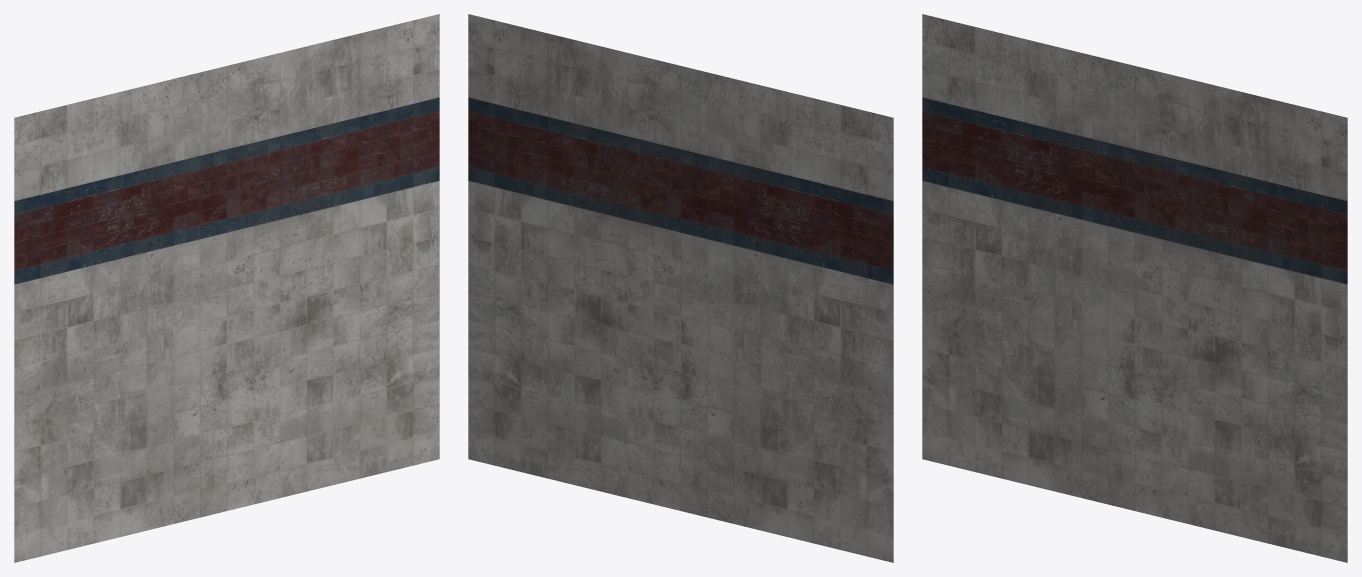
Rendered from SM_Wall_Plain_200u.glb.
3 renders of one model, left to right at view 1: azimuth 30°, elevation 25°; view 2: azimuth 150°, elevation 25°; view 3: azimuth 330°, elevation 25°, orthographic.
Visible parts, largest first — view 1: SM_Wall_Plain_200u; view 2: SM_Wall_Plain_200u; view 3: SM_Wall_Plain_200u.
Boxes of the visible parts, left/top/right/bottom form: SM_Wall_Plain_200u: left=14, top=14, right=439, bottom=562; SM_Wall_Plain_200u: left=468, top=14, right=893, bottom=562; SM_Wall_Plain_200u: left=922, top=14, right=1347, bottom=562.
Size of the model in its own units: 2.6 by 2.6 by 1.59e-16.
Materials: 1 (1 with a texture image).
